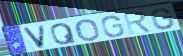G: (100, 15, 126, 38), (151, 7, 176, 30)
O: (75, 18, 102, 42)
Q: (50, 22, 78, 46)
R: (121, 10, 154, 36)
V: (21, 23, 47, 50)
